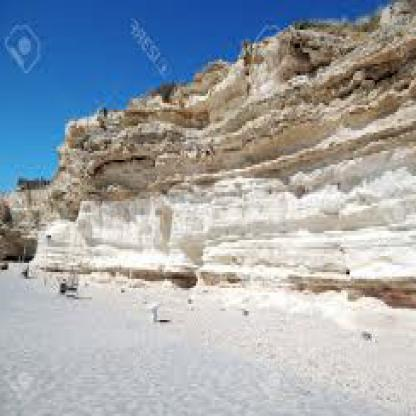Sedimentary_Chalk: (148, 297, 166, 325)
